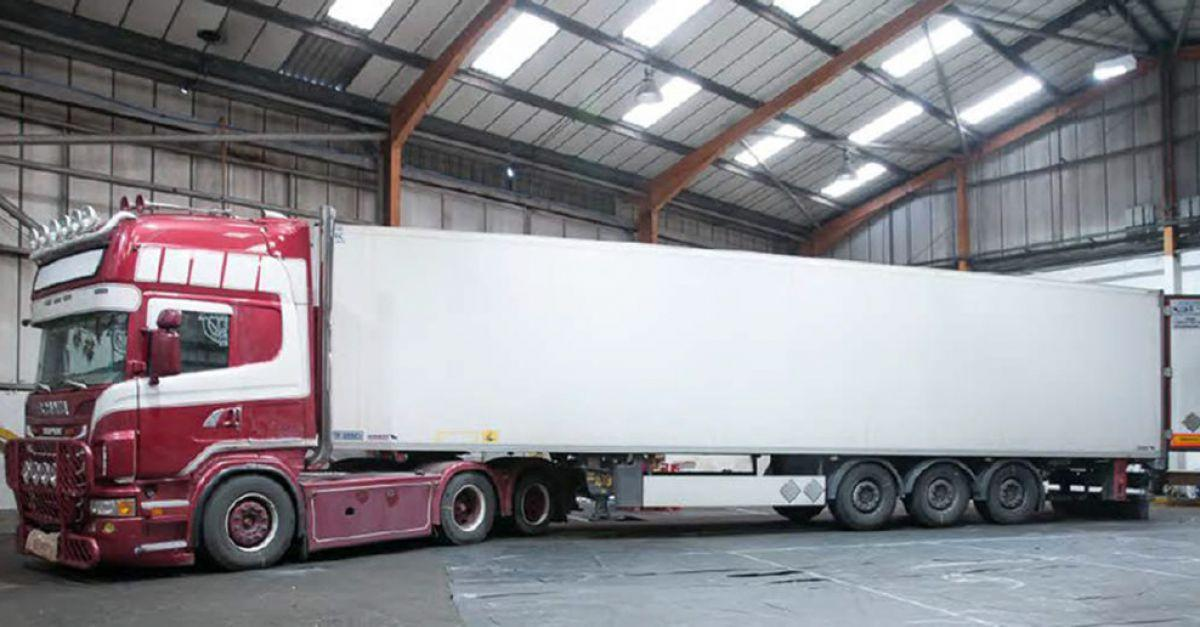truck: (2, 195, 1168, 580)
